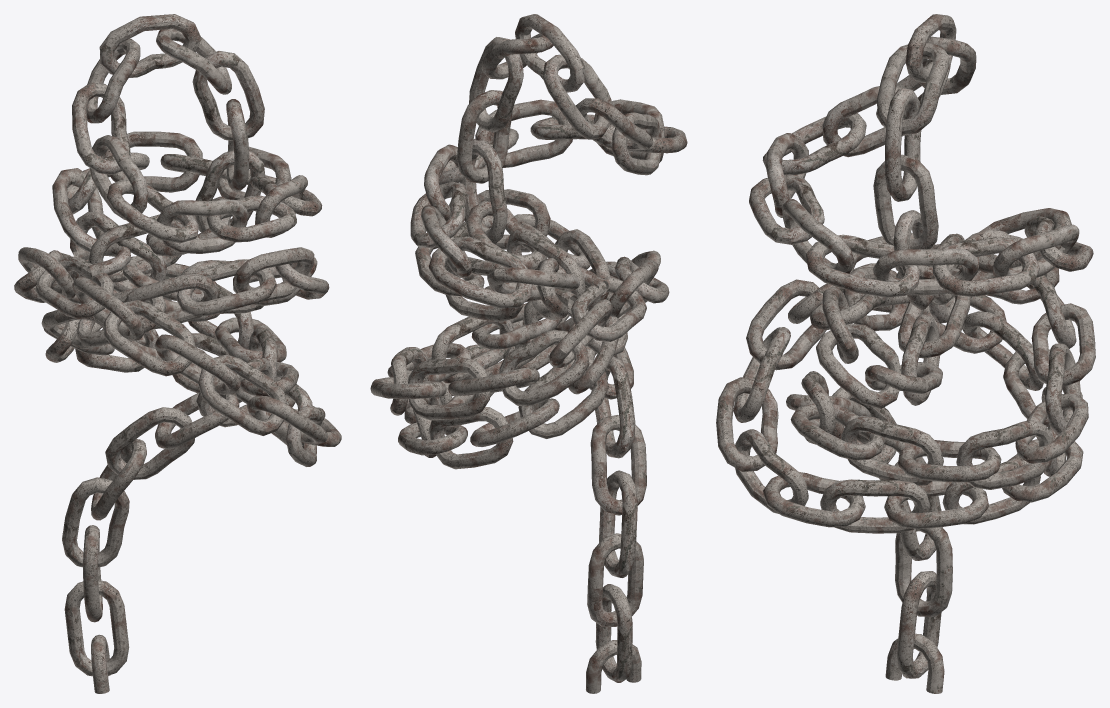
Rendered from Chain tied.fbx.
The picture shows the model from 3 angles, left to right: view 1: azimuth 30°, elevation 25°; view 2: azimuth 150°, elevation 25°; view 3: azimuth 270°, elevation 25°; orthographic projection. The views are drawn at different scales.
Parts seen in each view (by area): view 1: Torus.002; view 2: Torus.002; view 3: Torus.002.
Part boxes in pixels (x1,y1,x2,y2): Torus.002: [14, 14, 341, 693]; Torus.002: [370, 14, 687, 693]; Torus.002: [716, 14, 1095, 693].
Size of the model in its own units: 17.5 by 45.69 by 22.51.
